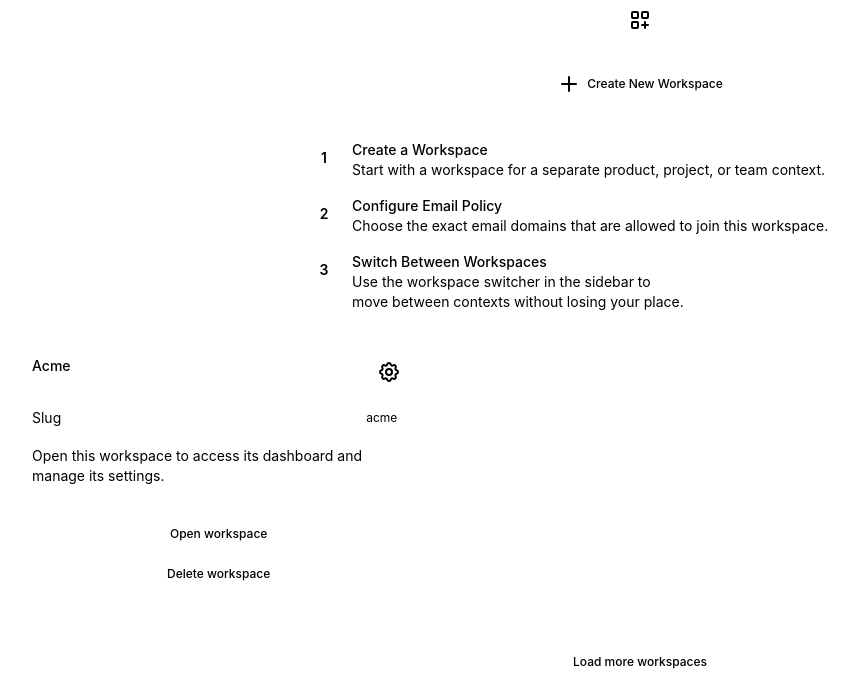
Test: appends generated pages and lets each incoming duplicate replace its older entry
Click the button "Load more workspaces".
click(640, 662)  # box [563, 646, 717, 678]
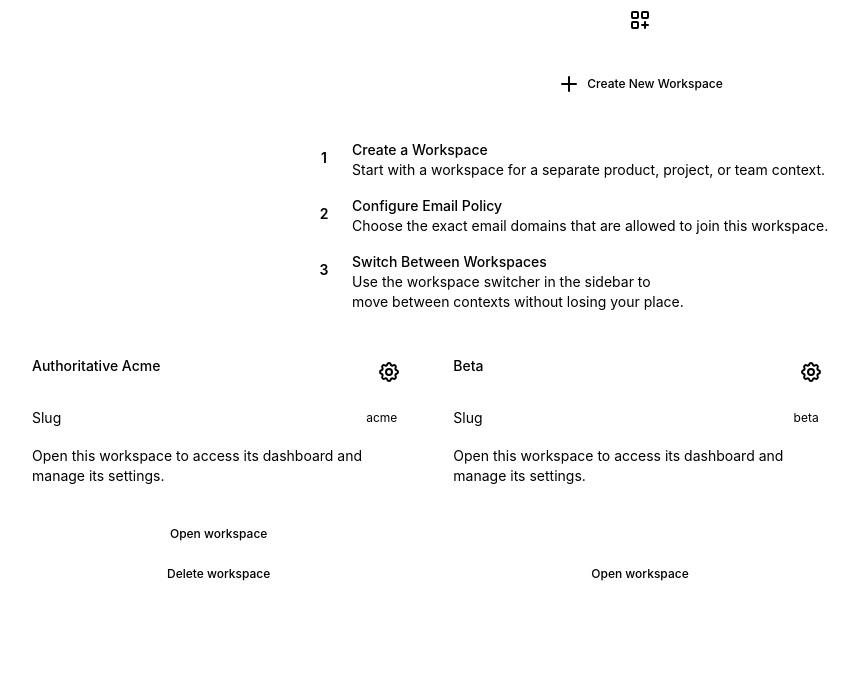
Expected: the element named "Authoritative Acme workspace" is shown, [16, 340, 421, 622]
Expected: the element named "Beta workspace" is shown, [437, 340, 843, 622]
